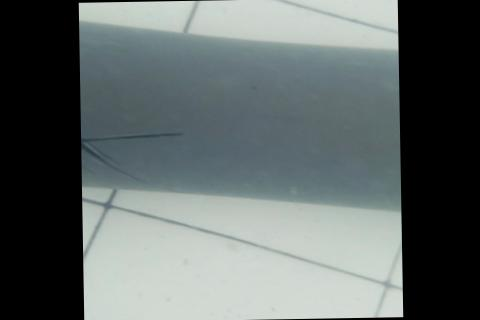keretakan: (79, 129, 186, 184)
